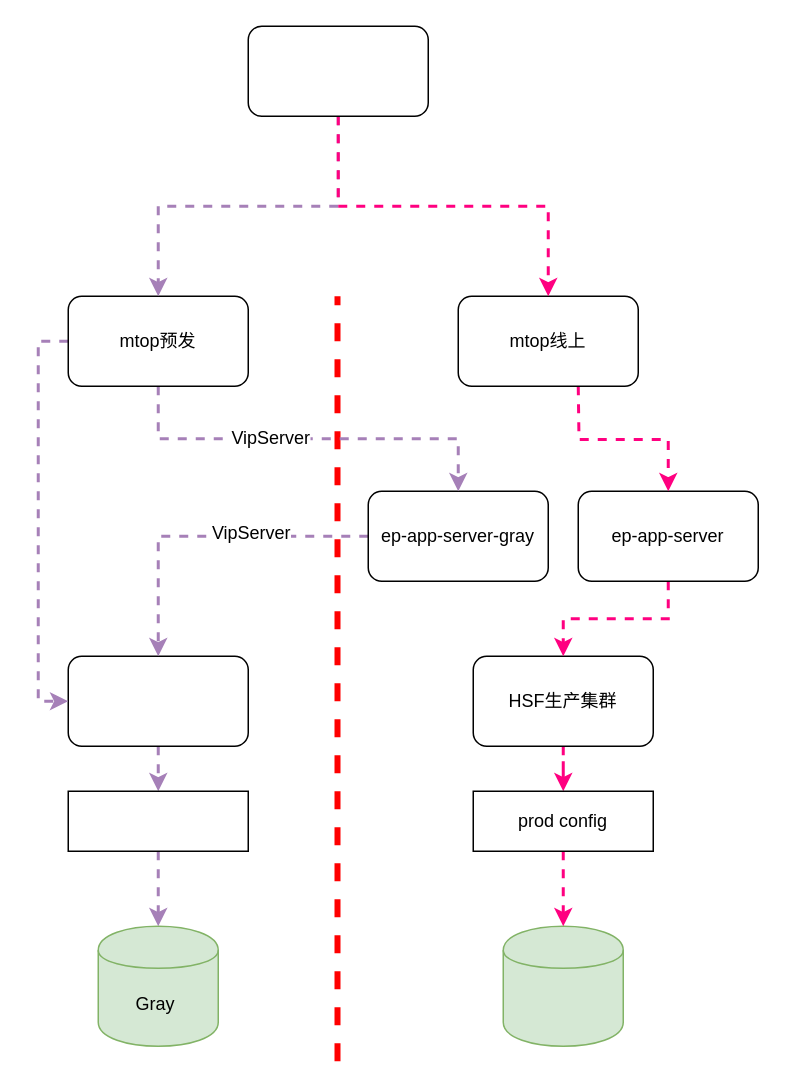
Image size: 785x1092. Some labels were removed from this diagram. Here are the shapes that lost their labels. From the top down, the centre of each, then its label:
At pixel 337 70: "鲸鸣app".
At pixel 157 700: "HSF预发集群".
At pixel 157 820: "gray config".
At pixel 562 985: "Production".
